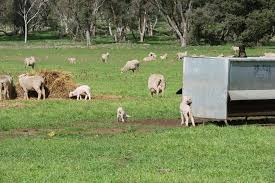sheep: (14, 72, 48, 99), (146, 72, 169, 100), (176, 96, 196, 126), (67, 82, 92, 101), (119, 57, 139, 74), (23, 55, 38, 69), (116, 104, 127, 122), (142, 53, 157, 63), (64, 55, 77, 66), (100, 51, 110, 64), (158, 51, 169, 61), (176, 51, 188, 60)
